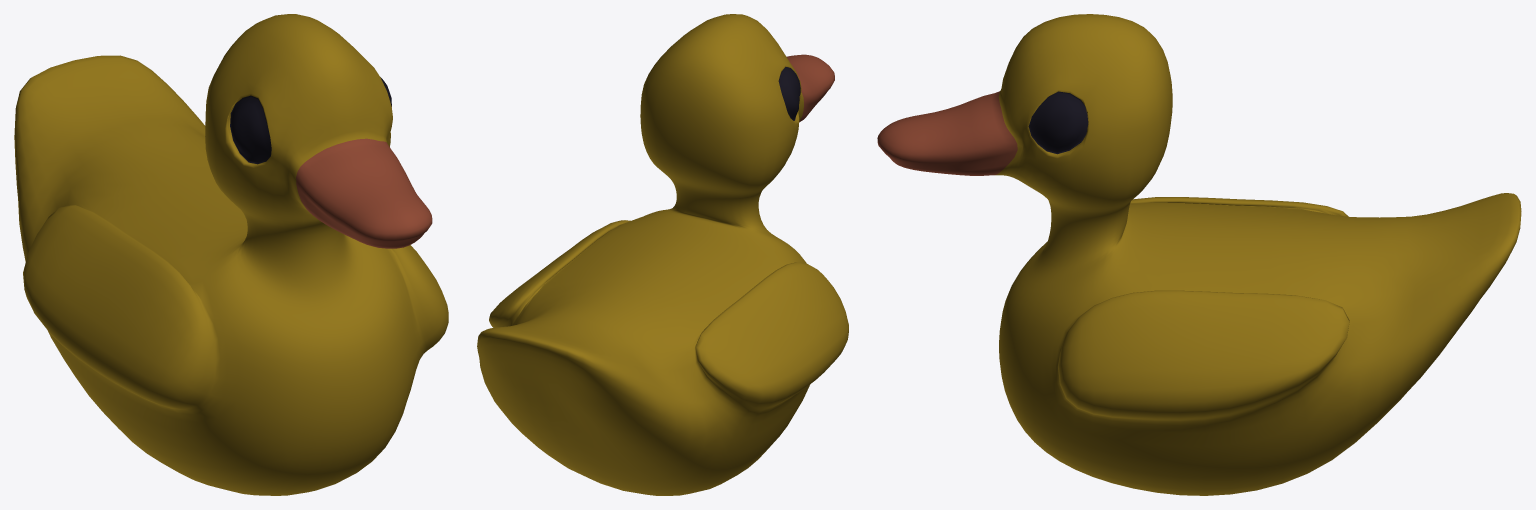
Rendered from duck_rest.fbx.
The picture shows the model from 3 angles, left to right: view 1: azimuth 30°, elevation 25°; view 2: azimuth 150°, elevation 25°; view 3: azimuth 270°, elevation 25°; orthographic projection. The views are drawn at different scales.
Visible parts, largest first — view 1: duck_rest; view 2: duck_rest; view 3: duck_rest.
Boxes of the visible parts, x1,y1,x2,y2 form: duck_rest: (14,14,448,495); duck_rest: (477,14,848,495); duck_rest: (877,14,1521,495).
Size of the model in its own units: 1.2 by 1.66 by 2.1.
